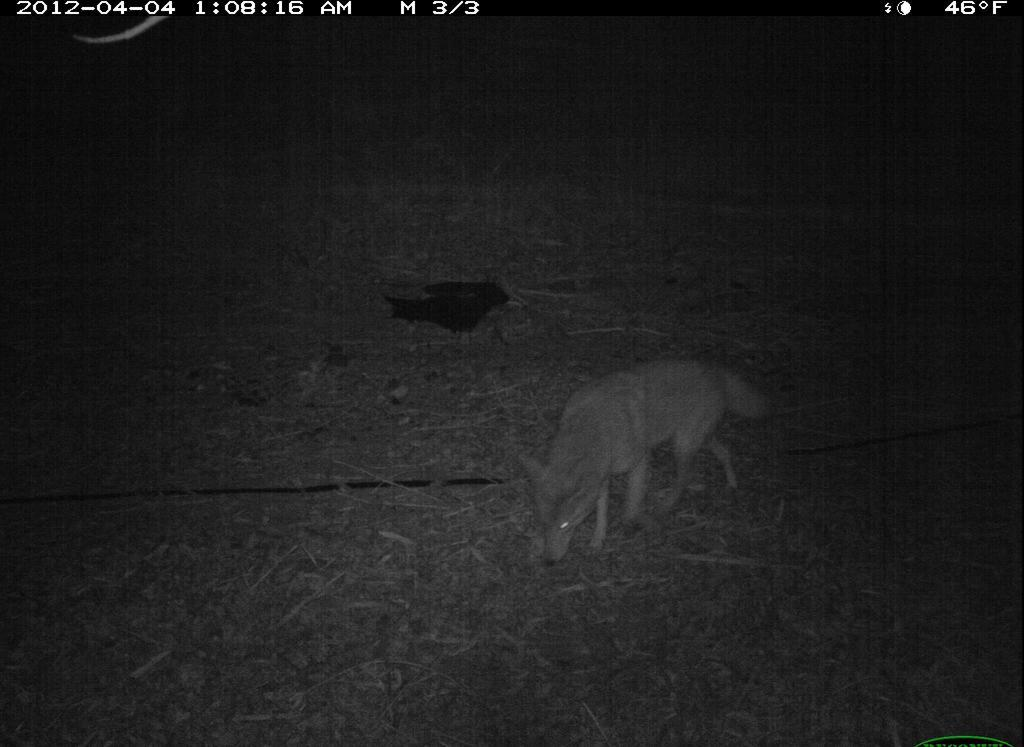coyote: (523, 346, 779, 568)
